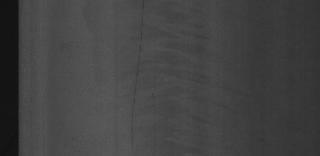inclusion: (126, 4, 146, 152)
water spot: (153, 9, 214, 150)
